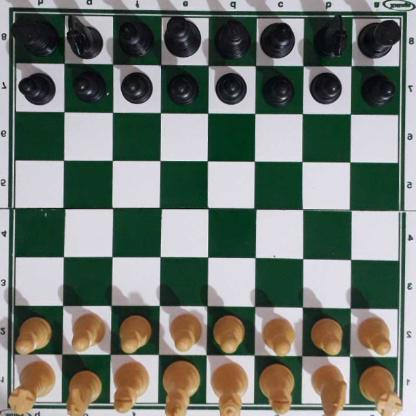black-bishop: (116, 20, 156, 58), (259, 22, 298, 58)
black-king: (164, 14, 204, 58)
black-knight: (66, 11, 103, 61), (316, 12, 349, 59)
black-pawn: (20, 69, 56, 105), (73, 68, 107, 102), (311, 69, 343, 104), (121, 68, 153, 103), (215, 71, 248, 104), (363, 72, 396, 104), (264, 71, 295, 105), (169, 70, 199, 104)
black-queen: (213, 17, 252, 60)
black-rook: (358, 16, 405, 57), (14, 10, 56, 55)
white-bishop: (114, 361, 151, 411), (262, 361, 295, 412)
white-king: (161, 360, 201, 416)
white-knight: (314, 363, 347, 413), (68, 368, 103, 414)
white-pawn: (169, 313, 204, 354), (70, 311, 106, 350), (16, 315, 52, 352), (359, 316, 394, 354), (263, 316, 296, 355), (120, 313, 153, 351), (214, 314, 246, 352), (312, 317, 345, 353)
white-queen: (211, 360, 250, 416)
white-rook: (11, 358, 54, 414), (361, 360, 401, 415)
